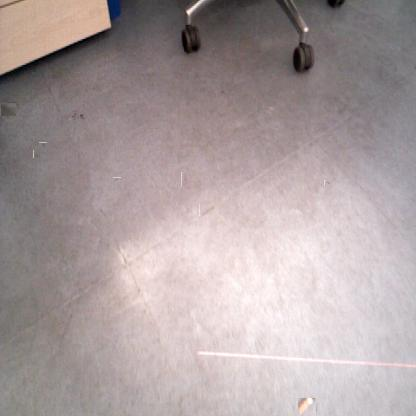dirty: (298, 398, 316, 416)
mark: (58, 311, 72, 347), (0, 102, 16, 116), (199, 204, 214, 216), (181, 172, 188, 186), (33, 150, 40, 158), (78, 112, 86, 119), (325, 180, 333, 187), (40, 142, 47, 148), (114, 177, 121, 183), (72, 114, 78, 119)
